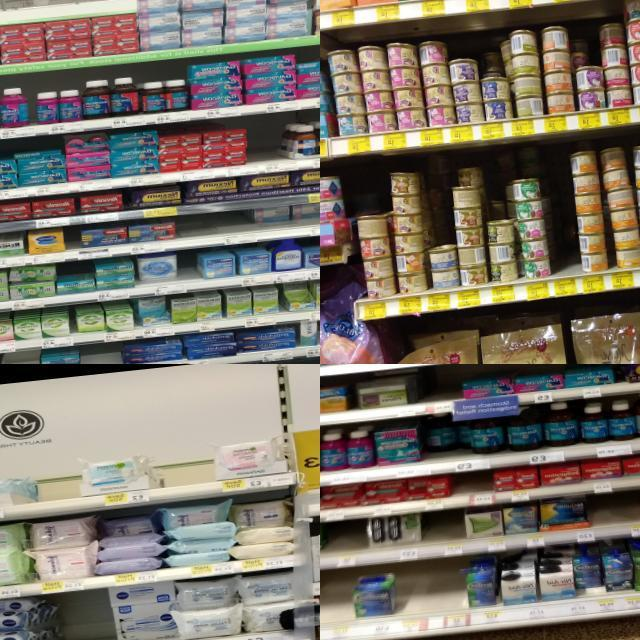empty: (540, 143, 581, 296), (174, 209, 250, 249), (53, 590, 112, 640), (424, 562, 468, 628), (591, 489, 640, 539), (161, 455, 214, 500), (320, 572, 354, 640), (392, 570, 428, 632), (244, 120, 280, 174), (328, 518, 368, 566), (428, 508, 467, 556), (37, 478, 80, 514), (454, 469, 494, 506), (427, 367, 458, 413), (177, 249, 199, 292), (80, 342, 120, 364)
